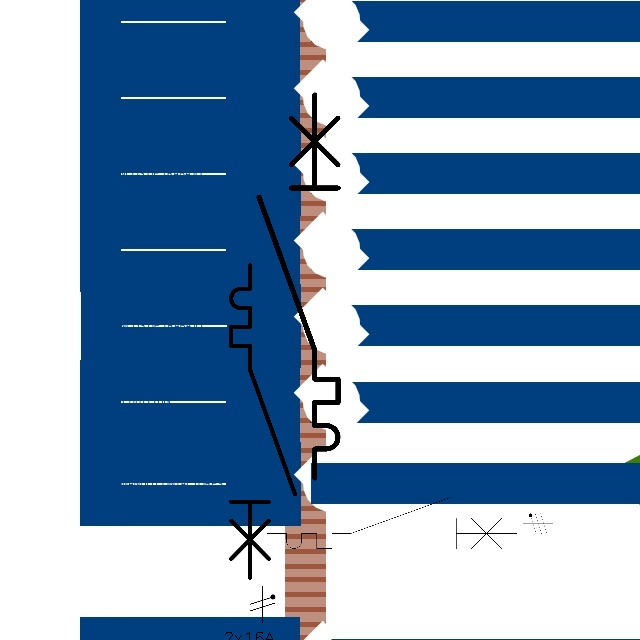interruptor_termomagnetico: (249, 85, 348, 488), (223, 257, 303, 585), (261, 491, 524, 555)
